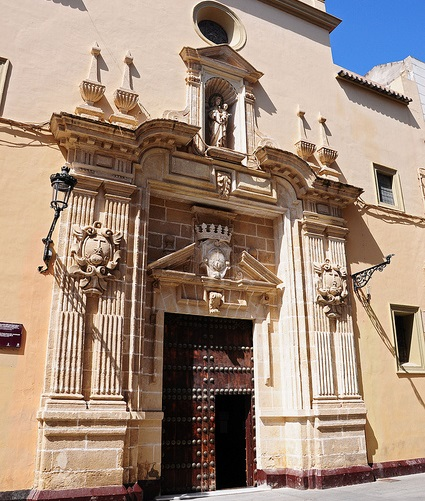fronton: (179, 43, 265, 80)
fronton-partido: (150, 240, 285, 291)
ojo-de-buey: (190, 1, 248, 53)
vano-adintelado: (151, 297, 268, 492)
